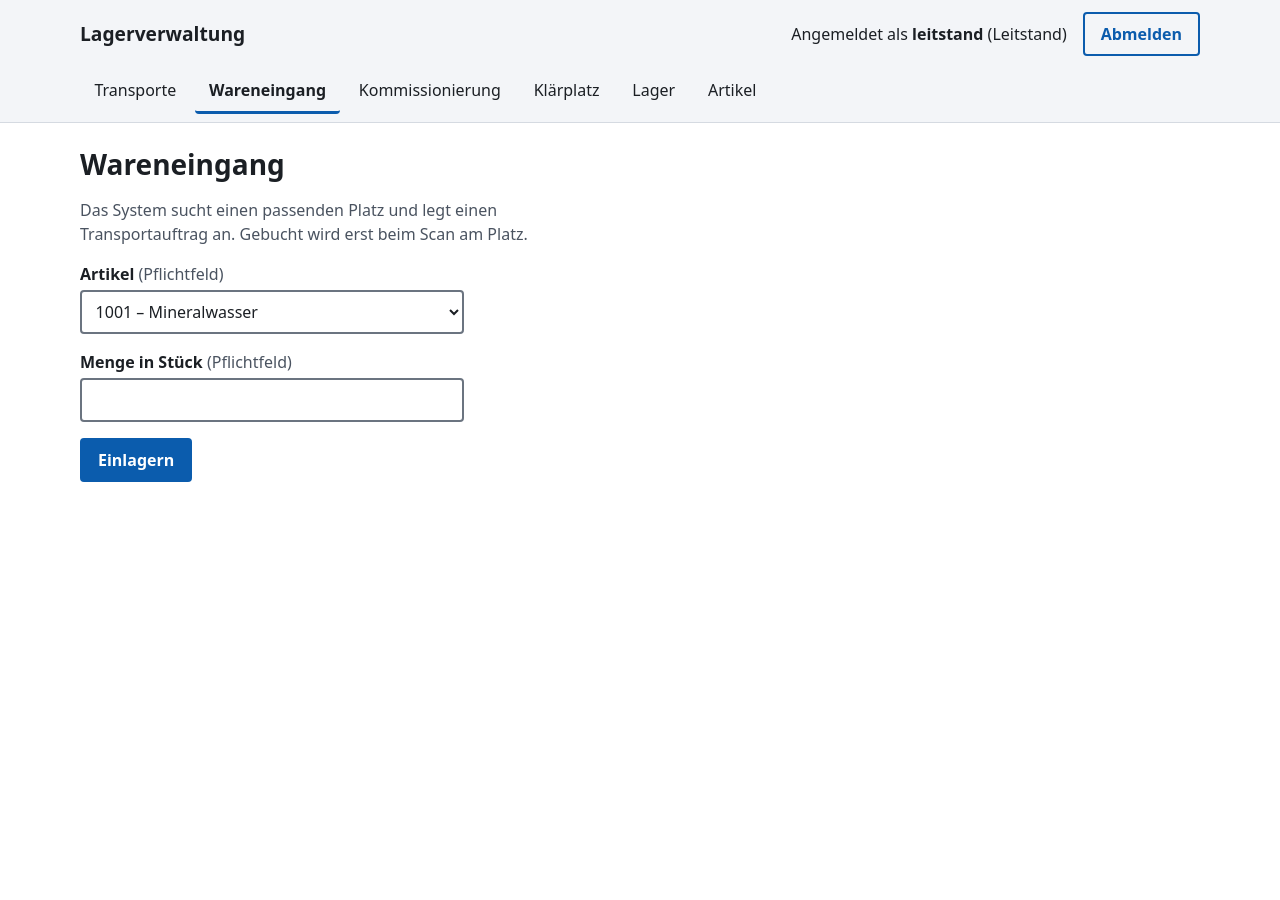
Test: Wareneingang: reservierter Platz wird angesagt und angezeigt
Select "1002 – Apfelsaft" in the dropdown labelled "Artikel (Pflichtfeld)". click: (272, 312)
box: top-left (80, 290), bottom-right (464, 334)
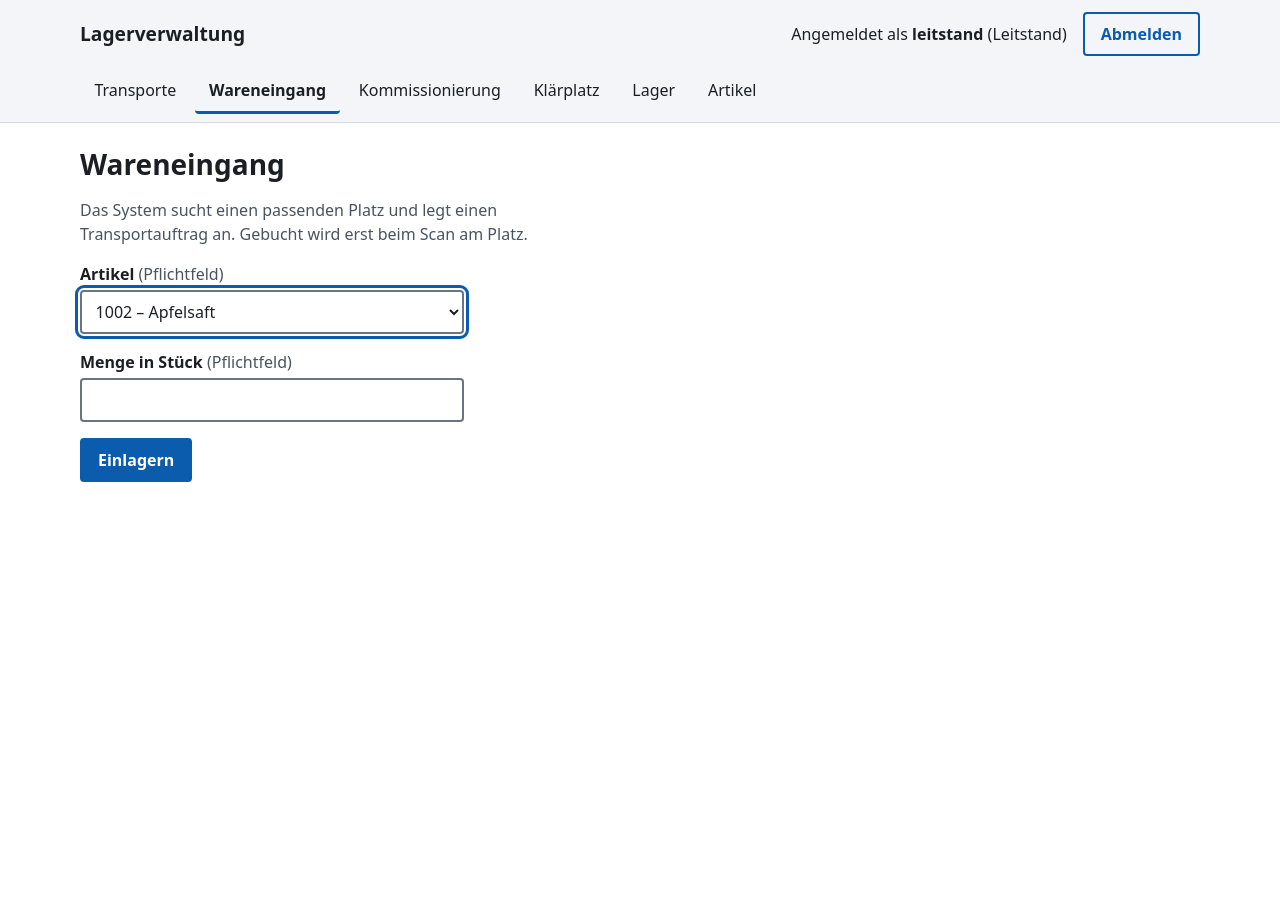
Type "20" into the number field labelled "Menge in Stück (Pflichtfeld)". click: (272, 400)
box: top-left (80, 378), bottom-right (464, 422)
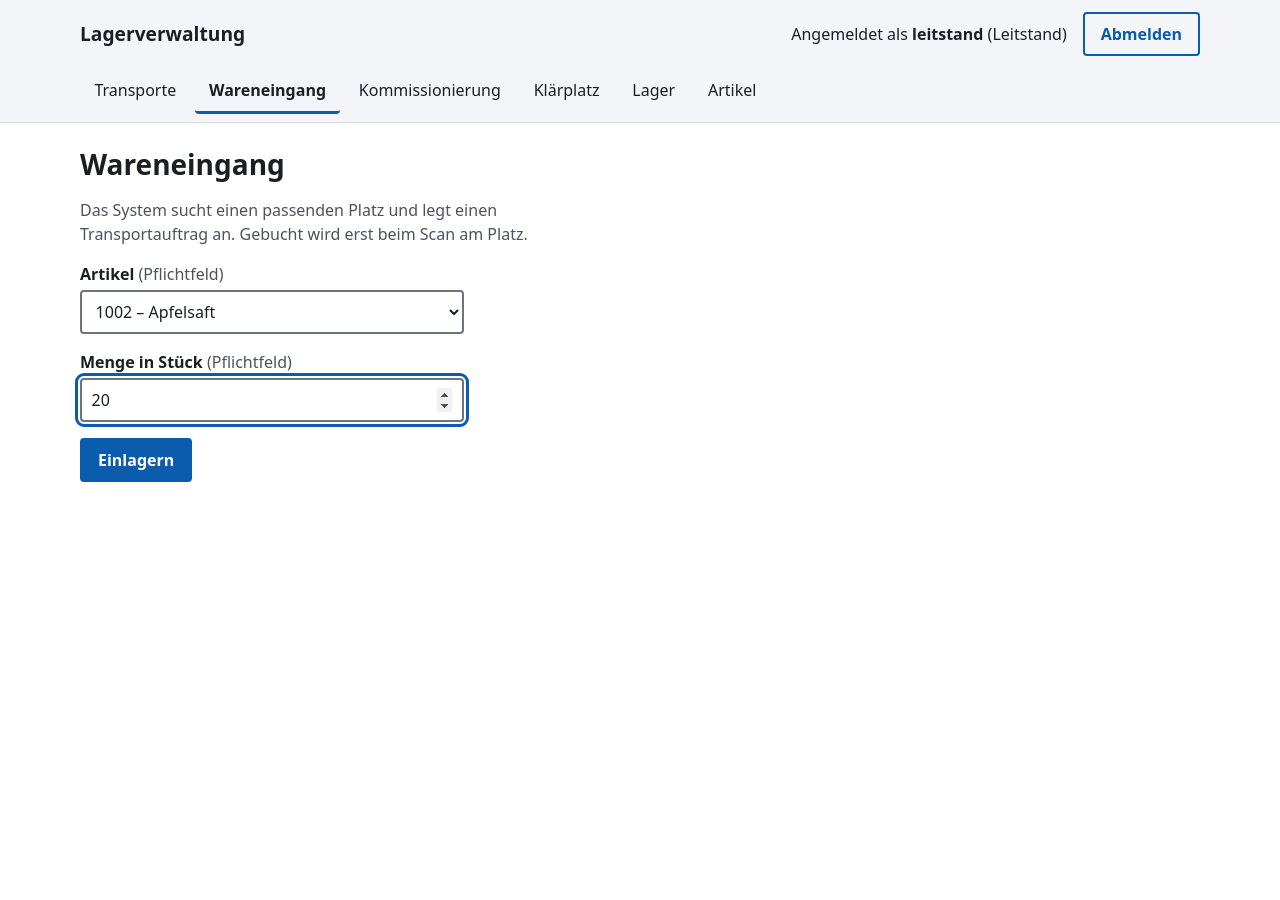
Click the button "Einlagern". click: (136, 460)
box: top-left (80, 438), bottom-right (192, 482)
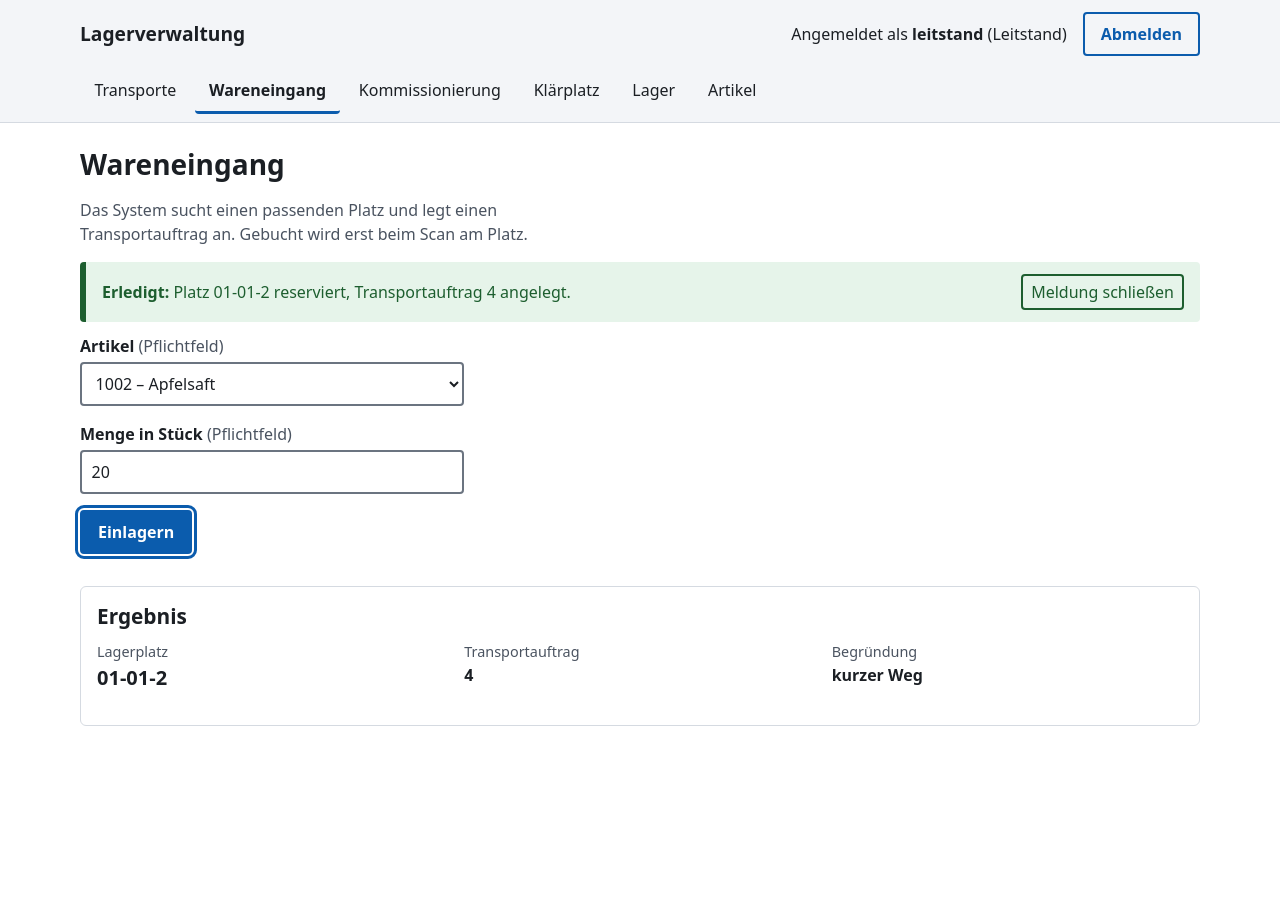
Result: the text "kurzer Weg" is shown at top-left (832, 664), bottom-right (923, 686)
